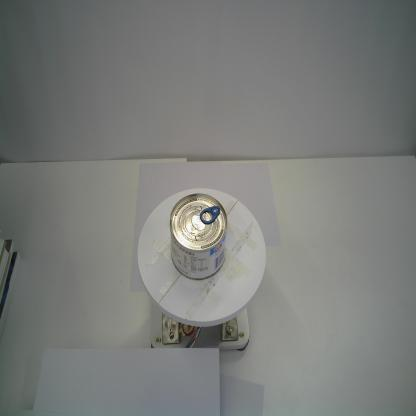Canned Food: (169, 190, 228, 280)
